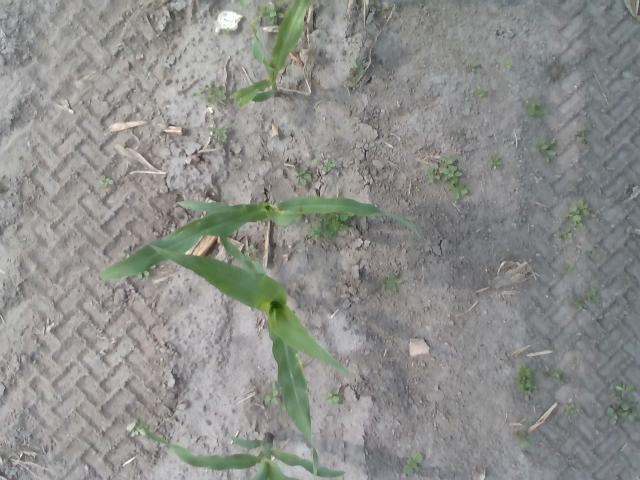Maize: (144, 237, 350, 478), (97, 196, 423, 279), (144, 432, 345, 479), (230, 1, 312, 106)
Weeds: (428, 158, 462, 183), (606, 402, 636, 424), (516, 366, 534, 395), (538, 139, 558, 162), (568, 200, 588, 222), (403, 454, 423, 474), (209, 126, 231, 142), (206, 84, 226, 101), (314, 225, 335, 241), (542, 366, 563, 382), (448, 183, 468, 199), (264, 382, 278, 404), (528, 100, 546, 116), (322, 216, 342, 230), (350, 58, 365, 76), (269, 4, 283, 23), (616, 382, 632, 398), (515, 432, 531, 448), (385, 276, 403, 290), (297, 169, 312, 185), (127, 422, 144, 436), (323, 389, 340, 402), (561, 224, 574, 238), (562, 404, 576, 416), (586, 288, 598, 302), (452, 128, 466, 140), (577, 127, 587, 143), (570, 298, 586, 308), (467, 61, 481, 72), (100, 174, 112, 186), (322, 160, 334, 170), (491, 158, 502, 168), (480, 86, 490, 96), (340, 213, 354, 220), (502, 60, 511, 69), (599, 314, 611, 320)
